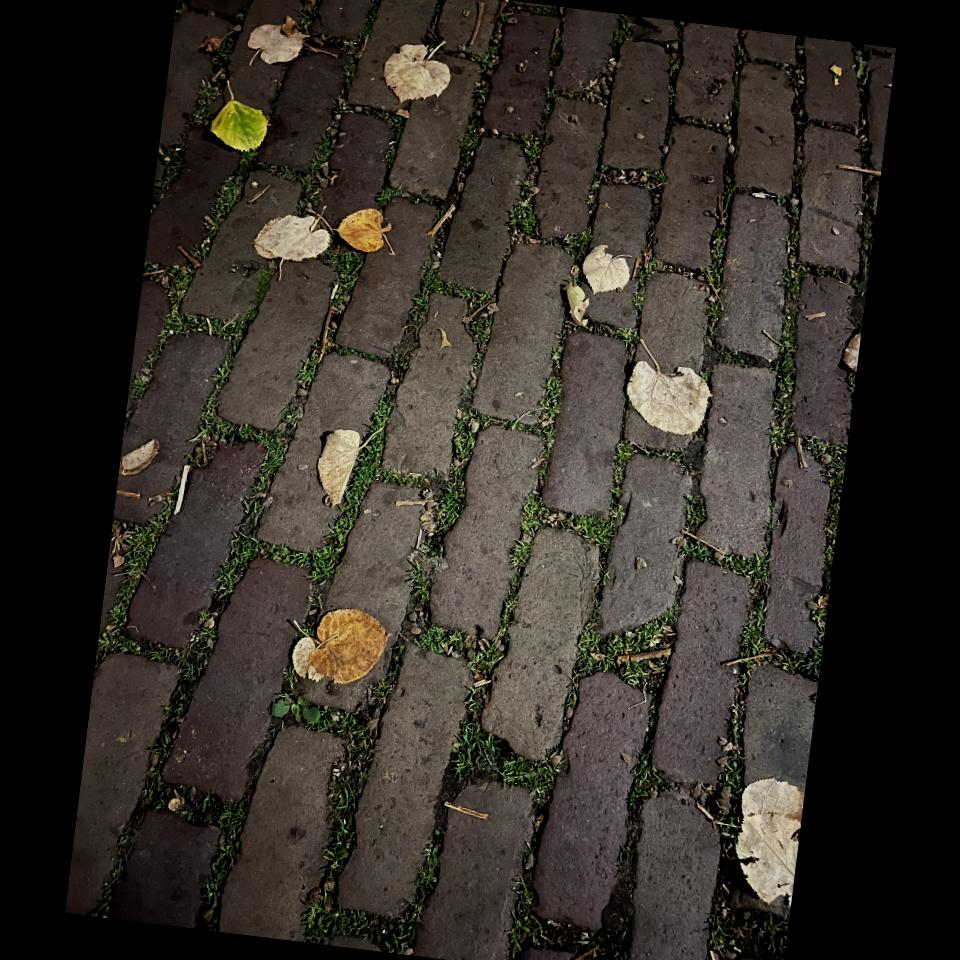weed: (100, 434, 316, 754), (311, 387, 391, 599), (451, 721, 557, 805), (770, 253, 806, 455), (577, 605, 676, 675), (115, 509, 169, 615), (803, 438, 847, 566), (194, 156, 248, 259), (522, 495, 621, 549), (445, 406, 479, 493), (720, 551, 768, 590), (787, 642, 823, 677), (171, 269, 193, 311), (624, 660, 649, 687), (437, 499, 457, 530), (683, 543, 713, 561), (97, 635, 117, 655), (110, 610, 124, 628), (419, 606, 430, 628)
